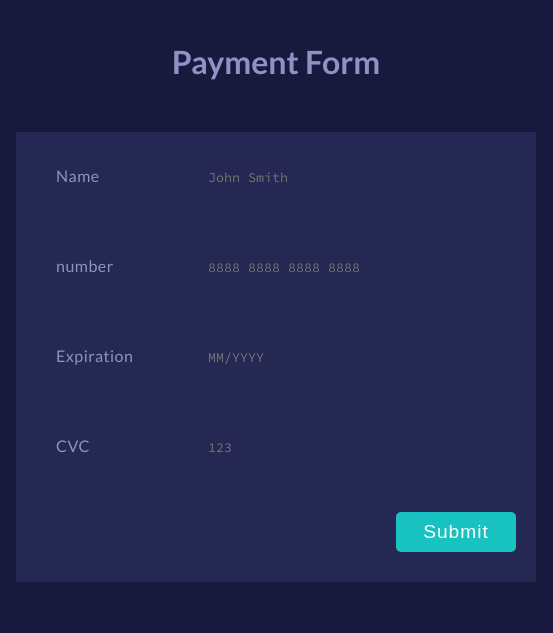
PaymentForm › shows error messages › when card number is not a recognized card
The image size is (553, 633).
Step 1. Type "123" into the field with placeholder "8888 8888 8888 8888" → (356, 267), box [206,258,506,277]
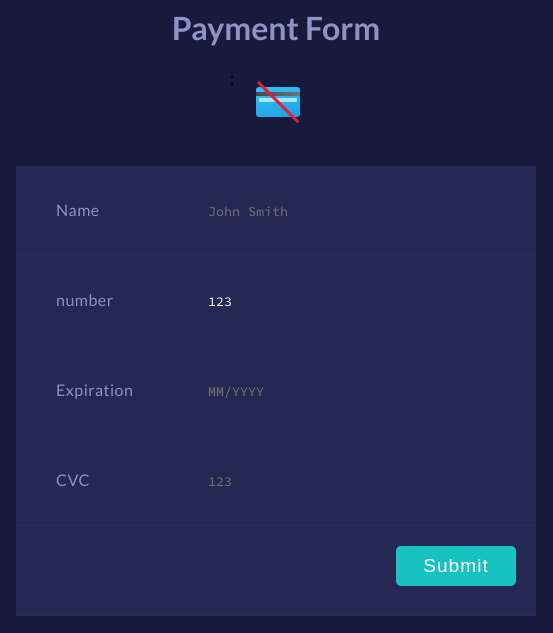
Check: the field with placeholder "8888 8888 8888 8888" has attribute value="123", box [206,292,506,311]
Step 2. Click the button "Submit" → (456, 566), box [396,546,516,586]
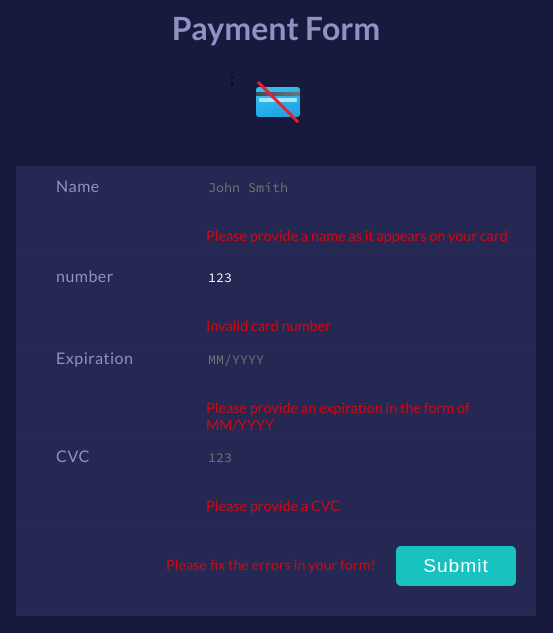
Check: the text "Invalid card number" is shown, box [206,317,331,334]
